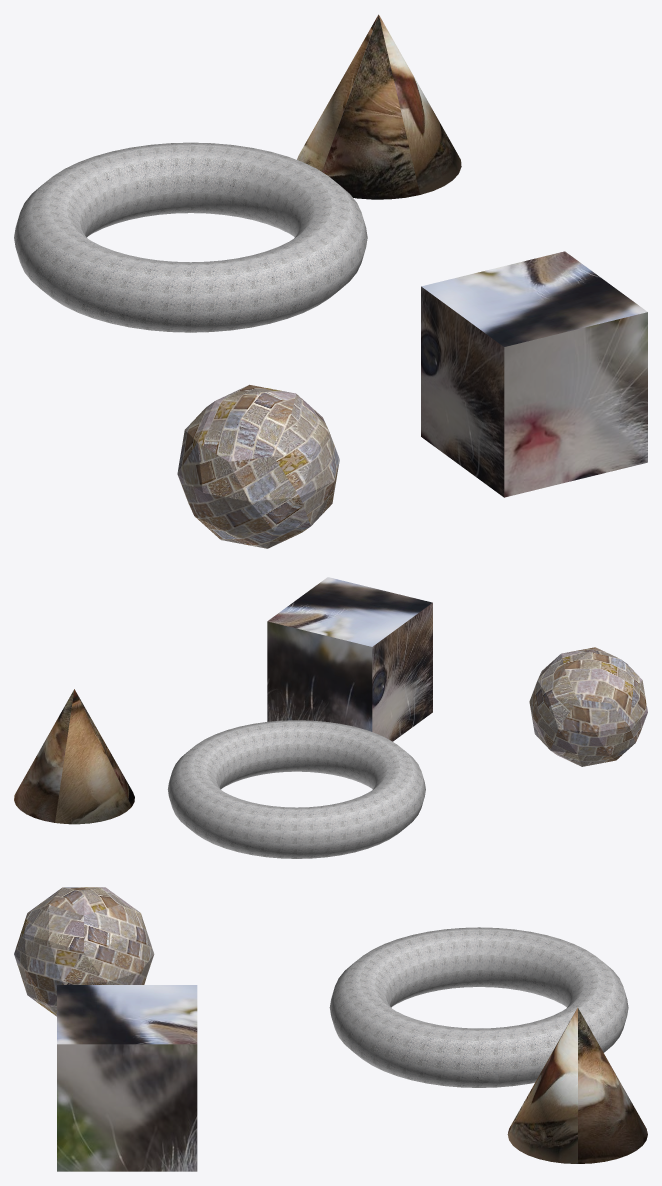
The model's file is objtexture.obj.
3 renders of one model, top to bottom at view 1: azimuth 30°, elevation 25°; view 2: azimuth 150°, elevation 25°; view 3: azimuth 270°, elevation 25°, orthographic. The views are drawn at different scales.
Visible parts, largest first — view 1: Torus, Cube.001, Icosphere, Cone; view 2: Torus, Cube.001, Icosphere, Cone; view 3: Torus, Cube.001, Cone, Icosphere.
Boxes of the visible parts, left/top/right/bottom form: Torus: left=14, top=142, right=367, bottom=332; Cube.001: left=421, top=251, right=647, bottom=497; Icosphere: left=177, top=384, right=339, bottom=548; Cone: left=297, top=14, right=461, bottom=199; Torus: left=167, top=720, right=425, bottom=858; Cube.001: left=267, top=577, right=432, bottom=741; Icosphere: left=529, top=647, right=647, bottom=766; Cone: left=14, top=689, right=134, bottom=824; Torus: left=329, top=927, right=628, bottom=1087; Cube.001: left=57, top=985, right=197, bottom=1171; Cone: left=507, top=1007, right=647, bottom=1163; Icosphere: left=14, top=887, right=154, bottom=1016.
Bounding box in the file's own units: 7.68 × 2.84 × 9.04.
4 materials, 4 textured.
